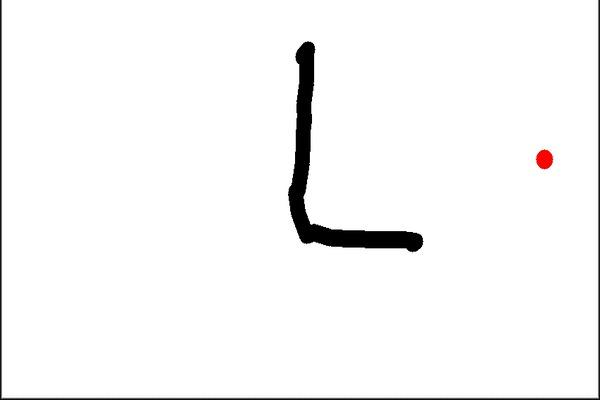L: (279, 36, 431, 261)
